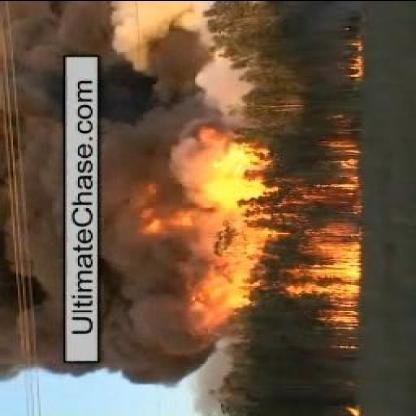-: (105, 67, 186, 380), (0, 93, 63, 372)
foggia-v2-map80-epoch100 - v1 4323: (316, 254, 362, 294)
